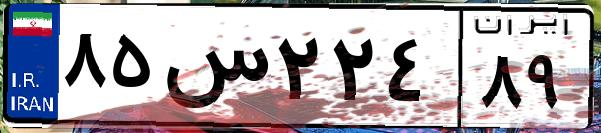2: (270, 28, 330, 110), (330, 28, 385, 110)
4: (385, 28, 445, 110)
5: (110, 28, 158, 98)
8: (57, 26, 110, 100), (475, 38, 525, 113)
9: (525, 38, 570, 115)
س: (158, 20, 270, 120)
